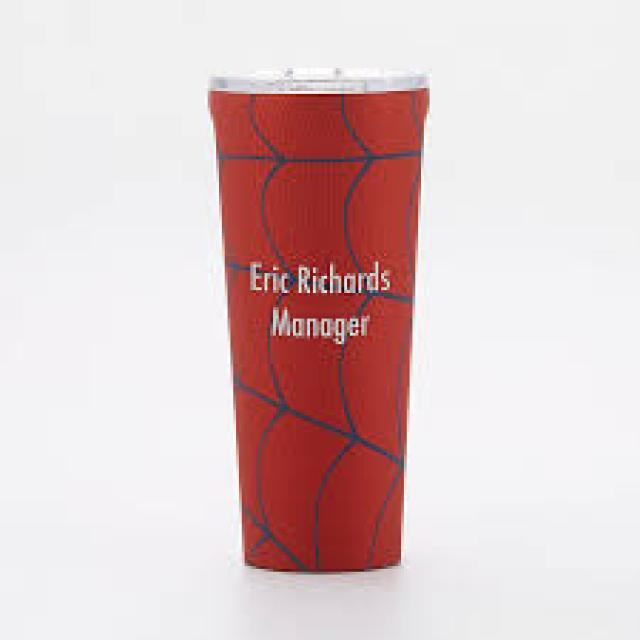bottle: (209, 69, 432, 574)
